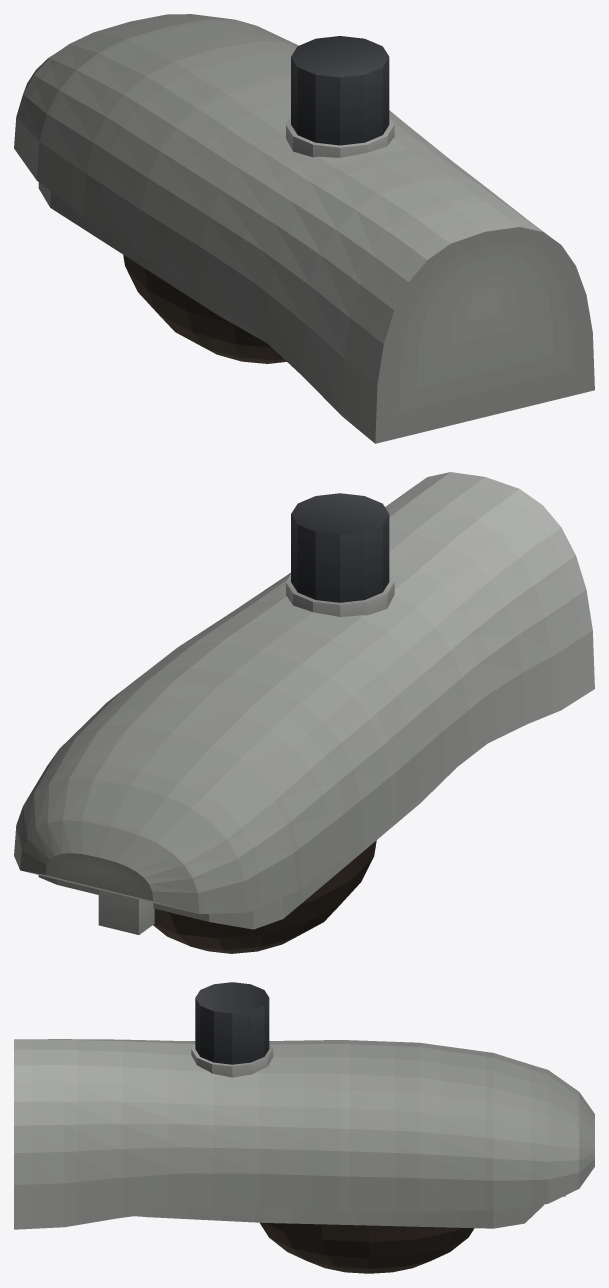
The model's file is streetlight_gem400r2.obj.
The picture shows the model from 3 angles, top to bottom: view 1: azimuth 30°, elevation 25°; view 2: azimuth 150°, elevation 25°; view 3: azimuth 270°, elevation 25°; orthographic projection. The views are drawn at different scales.
Visible parts, largest first — view 1: fixture; view 2: fixture; view 3: fixture.
Part boxes in pixels (x1,y1,x2,y2): fixture: (14,14,594,443); fixture: (14,472,594,953); fixture: (14,982,594,1273).
Size of the model in its own units: 0.3687 by 0.4731 by 0.9312.
